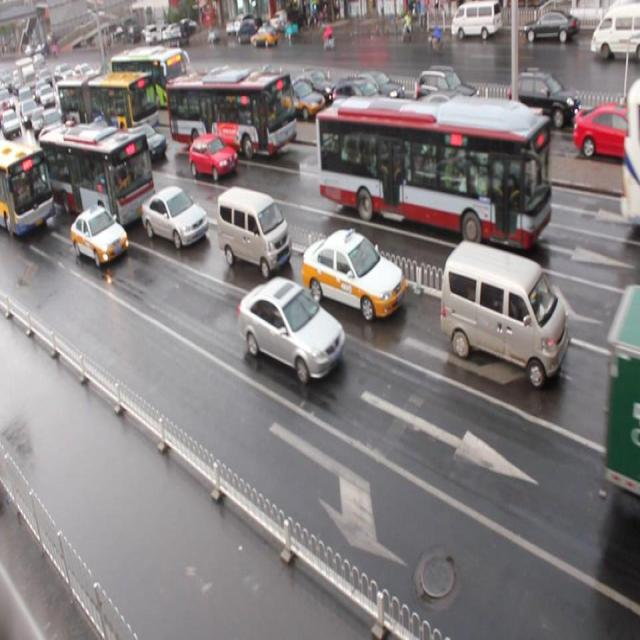bus: (602, 282, 640, 495)
car: (238, 276, 346, 384), (300, 228, 404, 321), (141, 185, 208, 250), (70, 205, 130, 267), (188, 133, 238, 180), (124, 121, 166, 163)
truck: (440, 240, 568, 386), (216, 186, 292, 276)
van: (314, 95, 548, 249), (38, 121, 156, 232), (165, 70, 296, 155), (57, 74, 158, 132), (1, 138, 56, 237), (618, 78, 640, 223)
